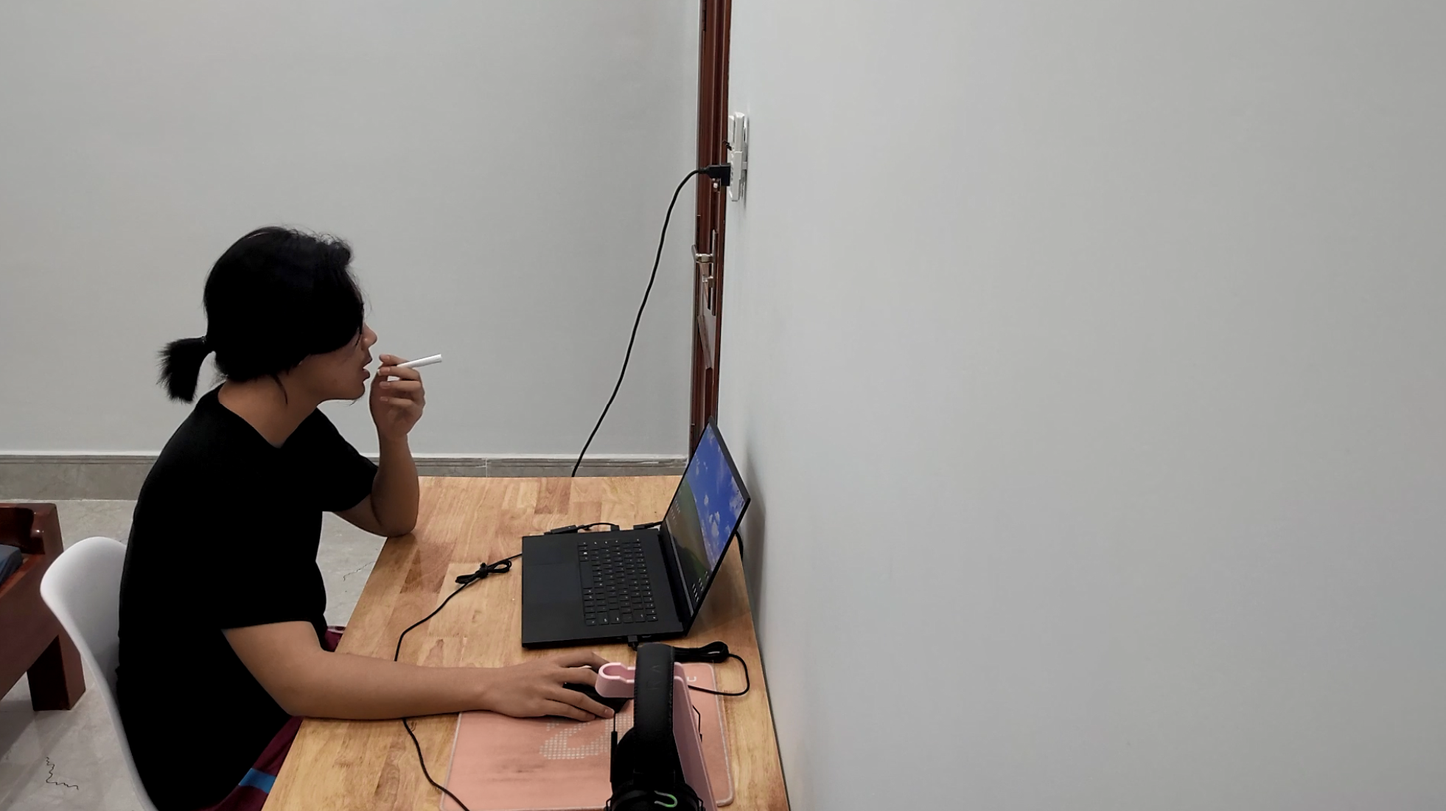cigarette: (384, 352, 451, 375)
person: (97, 193, 431, 811)
